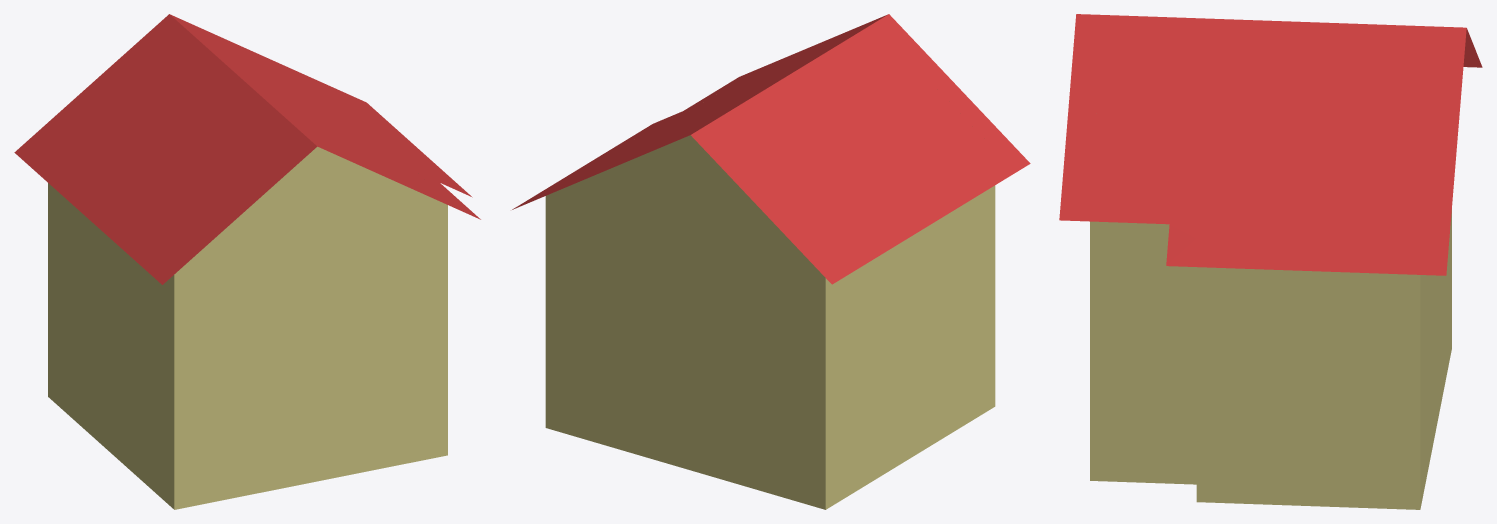
The picture shows the model from 3 angles, left to right: view 1: azimuth 30°, elevation 25°; view 2: azimuth 150°, elevation 25°; view 3: azimuth 270°, elevation 25°; orthographic projection. The views are drawn at different scales.
Bounding box in the file's own units: 12.42 × 11.17 × 11.4.
